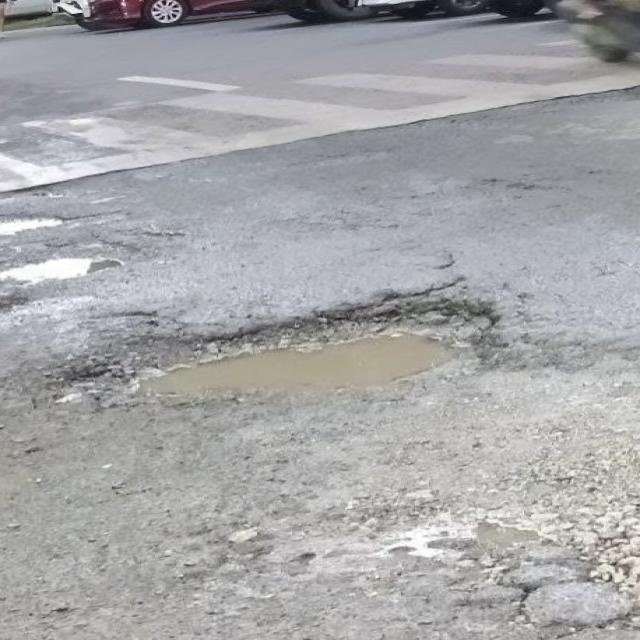pothole: (33, 272, 574, 446), (0, 246, 157, 288), (0, 196, 96, 236)
